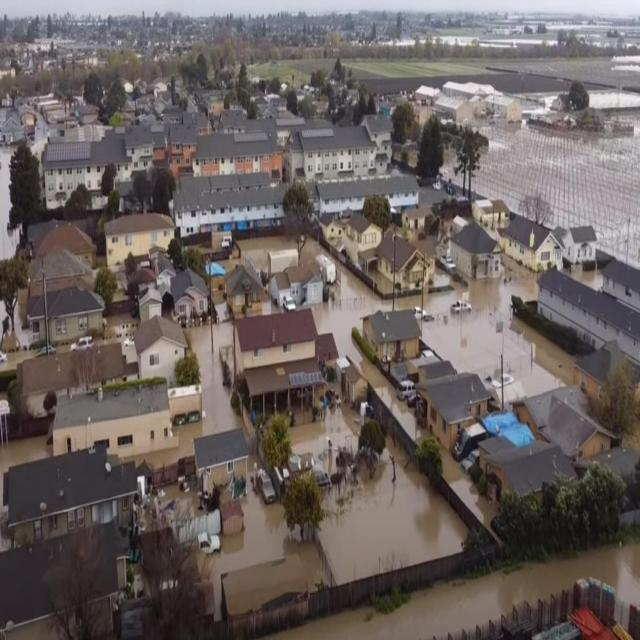flood: (273, 533, 640, 639), (320, 438, 466, 582), (422, 261, 573, 393), (315, 265, 417, 437), (201, 490, 321, 620), (135, 323, 243, 465), (443, 450, 497, 527), (0, 436, 50, 511), (292, 407, 346, 464), (237, 234, 297, 273), (0, 148, 17, 257), (0, 349, 34, 371), (301, 235, 321, 264), (15, 299, 28, 340), (0, 301, 9, 337), (20, 291, 25, 313)
house: (6, 441, 142, 604), (540, 263, 637, 394), (55, 379, 176, 467), (26, 222, 109, 349), (231, 310, 327, 415), (477, 428, 571, 515), (178, 165, 282, 242), (199, 110, 285, 182), (545, 386, 617, 466), (422, 371, 490, 452), (298, 120, 374, 189), (192, 426, 250, 504), (502, 195, 557, 276), (446, 213, 504, 287), (108, 212, 171, 276), (45, 129, 96, 208), (133, 316, 192, 382), (372, 230, 423, 302), (362, 307, 417, 368), (269, 260, 333, 308), (602, 247, 640, 318), (166, 266, 209, 327), (343, 211, 382, 248), (125, 126, 154, 170), (138, 288, 162, 321), (321, 214, 343, 244), (3, 110, 22, 132)
